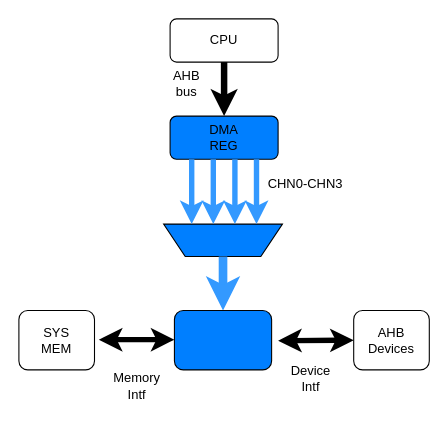
This 448x427 diagram has some shape labels left out. Each missing label, with the box of its shape:
4 x 1: (163, 223, 282, 256)
DMA AHBM: (173, 309, 272, 370)
